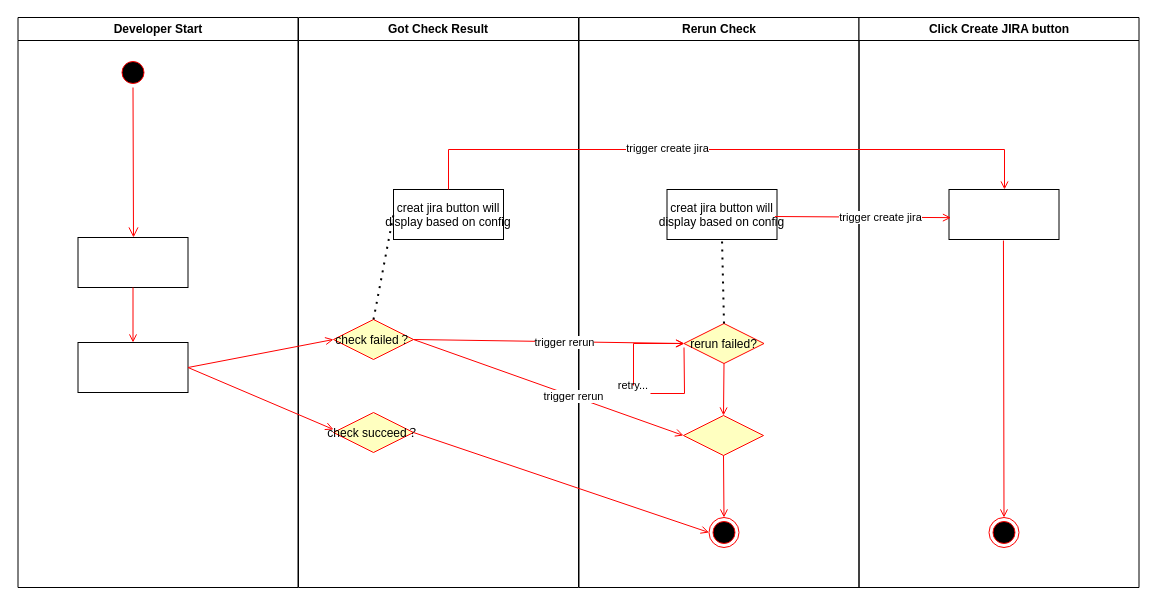
The diagram is 1156 pixels wide and 605 high, and some of its shapes have lost their labels. The centre of each missing label's shape, as x and y in pixels:
Check Run Start: (132,367)
Create PR: (132,262)
JIRA ticket display to failed check link: (1003,214)
rerun succeed?: (723,435)
